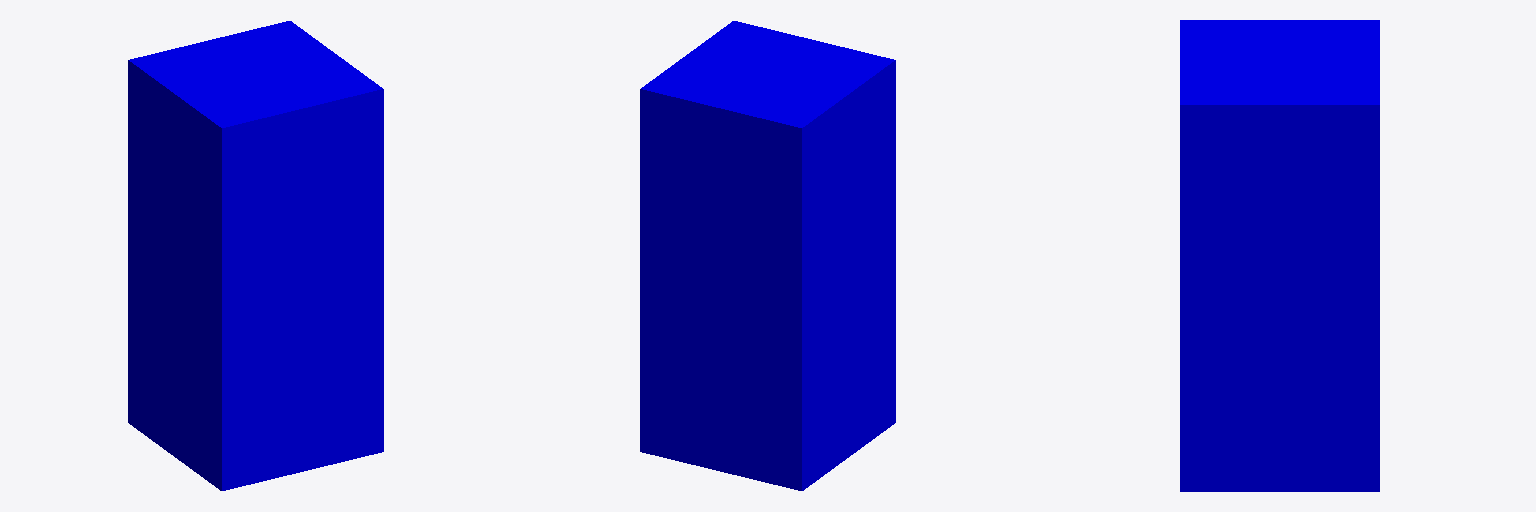
robot.urdf — box8:
<?xml version="1.0"?>
<robot name="box8">
	<link name="base">
	<inertial>
        	 <origin xyz="0 0 0" rpy="0 0 0"/>
        	 <mass value="1"/>
        	 <inertia ixx="0.000683333"  ixy="0"  ixz="0" iyy="0.000683333" iyz="0" izz="0.000683333" />
       </inertial>
	<visual>
			<origin xyz="0 0 0" rpy="0 0 0" />
			<geometry>
				<box size="0.007 0.007 0.015" />
			</geometry>
			<material>
				<color rgba="0 0 1 1" />
			</material>
	</visual>
  	<collision>
           		<origin xyz="0 0 0" rpy="0 0 0" />
            	<geometry>
			<box size="0.007 0.007 0.015" />
            	</geometry>
		<material>
			<color rgba="0 0 1 1" />
		</material>
        </collision>
	</link>
</robot>

--- Render facts (derived) ---
3 views of the same robot in one strip: view 1: azimuth 30°, elevation 25°; view 2: azimuth 150°, elevation 25°; view 3: azimuth 270°, elevation 25° (orthographic).
Robot: box8 — 1 links, 0 joints (none); root link base; default pose: every joint at zero.
Links seen in each view (by area): view 1: base; view 2: base; view 3: base.
Link boxes in pixels (bbox=[...]): base: bbox=[128, 21, 383, 490]; base: bbox=[640, 21, 895, 490]; base: bbox=[1180, 20, 1379, 491].
Size in the robot's own frame: 0.007 by 0.007 by 0.015 metres.
Geometry: primitives only (box / cylinder / sphere), no mesh files.
